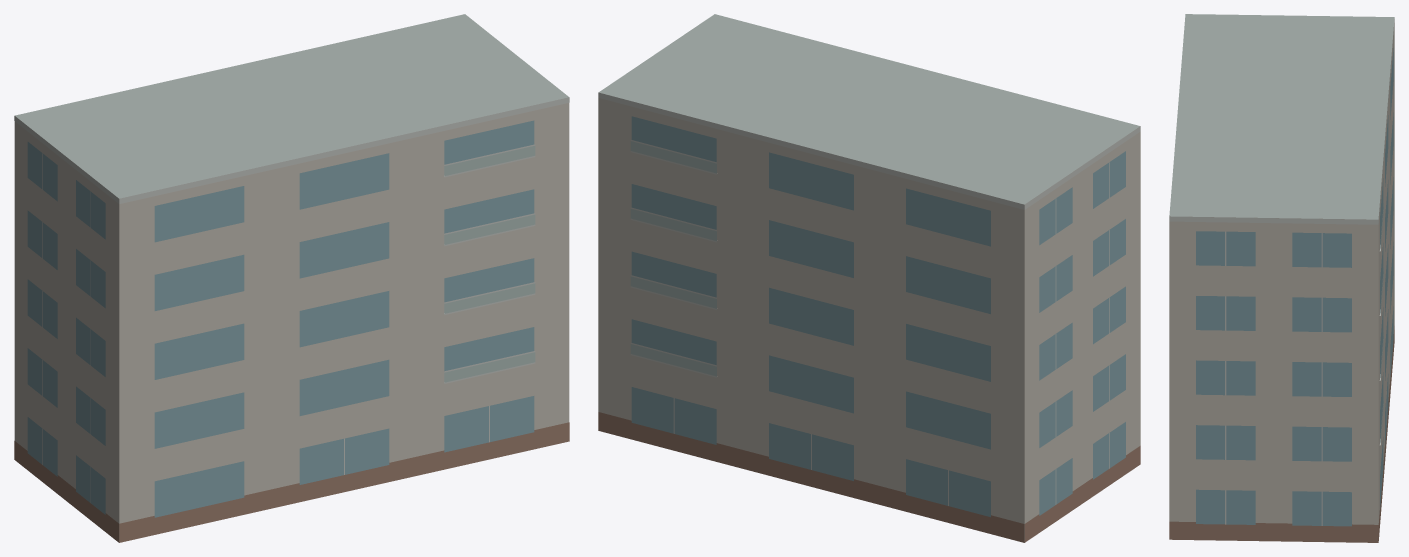
File: survey-upis-32599786.glb
The picture shows the model from 3 angles, left to right: view 1: azimuth 30°, elevation 25°; view 2: azimuth 150°, elevation 25°; view 3: azimuth 270°, elevation 25°; orthographic projection. The views are drawn at different scales.
Visible parts, largest first — view 1: survey-upis-32599786.tmp; view 2: survey-upis-32599786.tmp; view 3: survey-upis-32599786.tmp.
Boxes of the visible parts, bbox=[...] form: survey-upis-32599786.tmp: bbox=[14, 14, 569, 542]; survey-upis-32599786.tmp: bbox=[598, 14, 1140, 542]; survey-upis-32599786.tmp: bbox=[1169, 14, 1394, 542].
Size of the model in its own units: 20.88 by 15.3 by 9.67.
